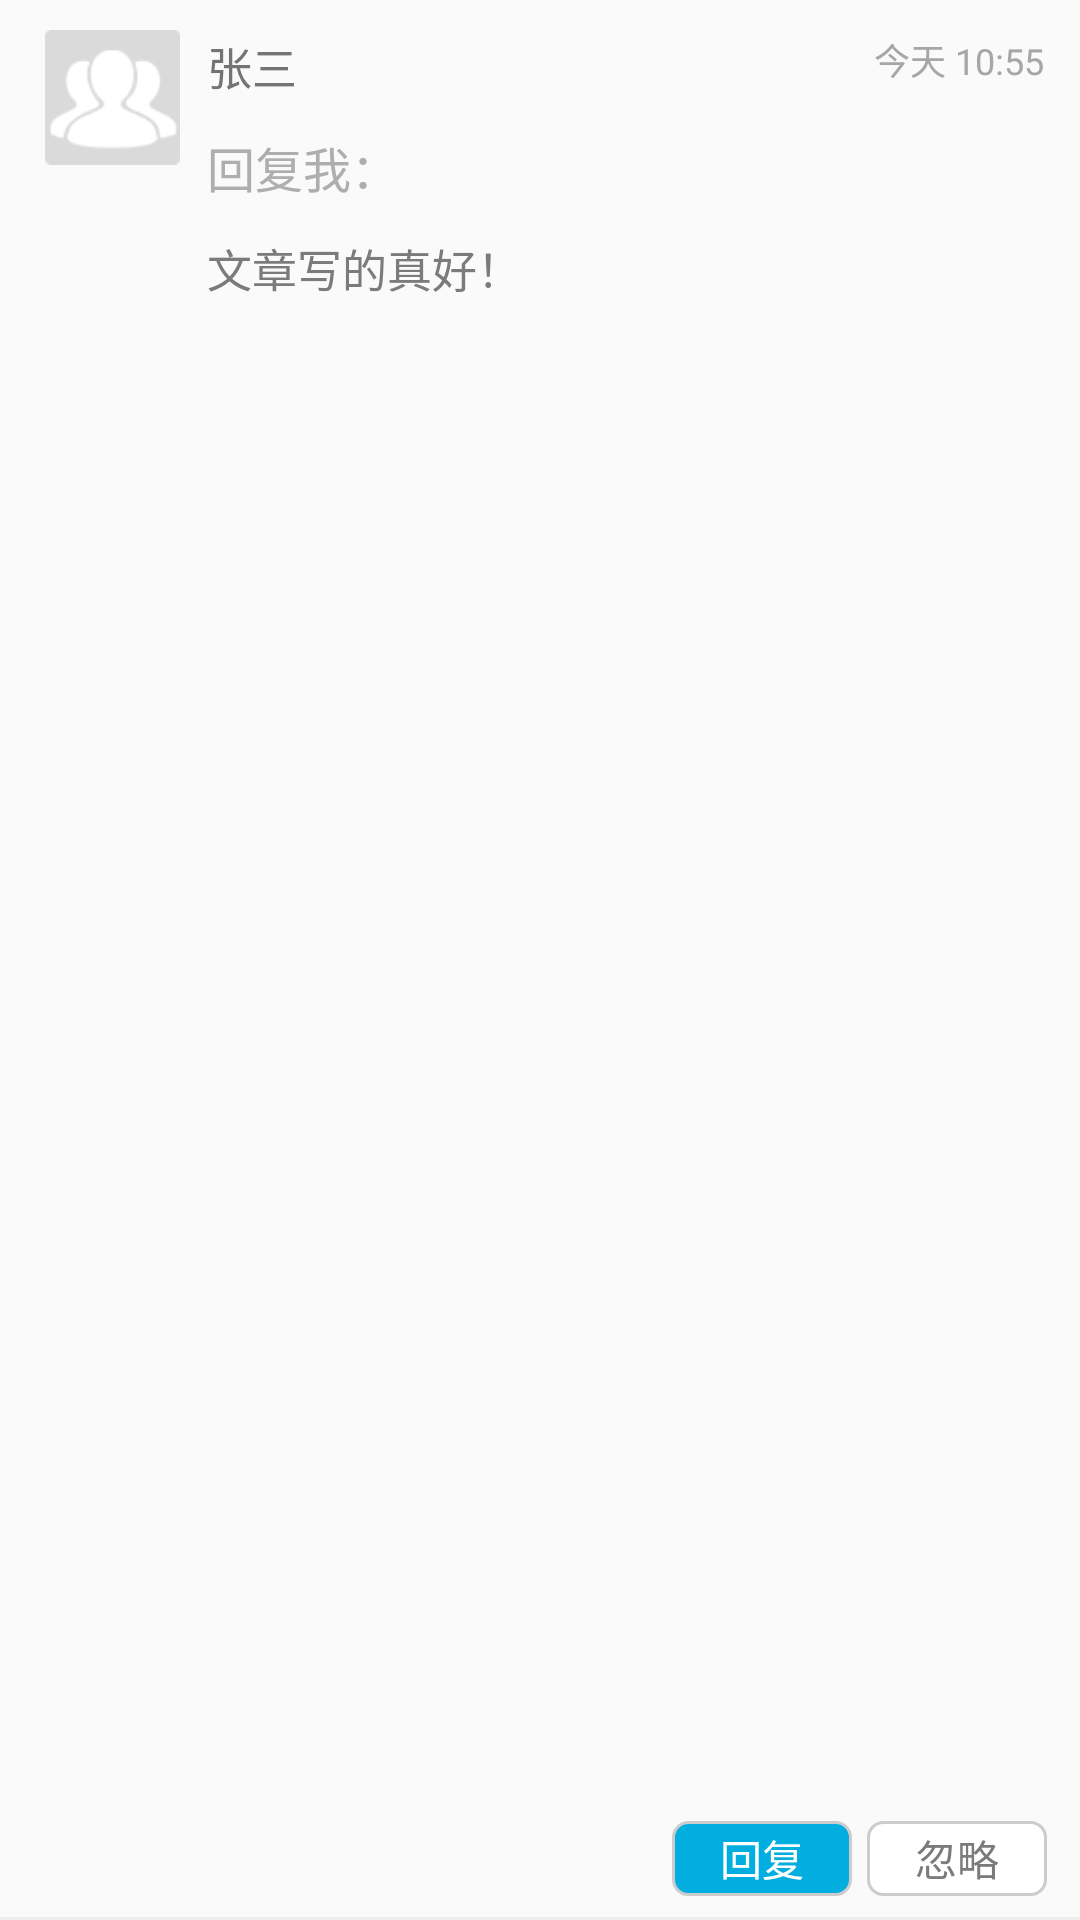

Icons on this 1080×1920 Android screen, each with its box as {"x1": x1, "y1": y1, "x2": x2, "y2": y2}:
noticehead: {"x1": 45, "y1": 30, "x2": 180, "y2": 165}
